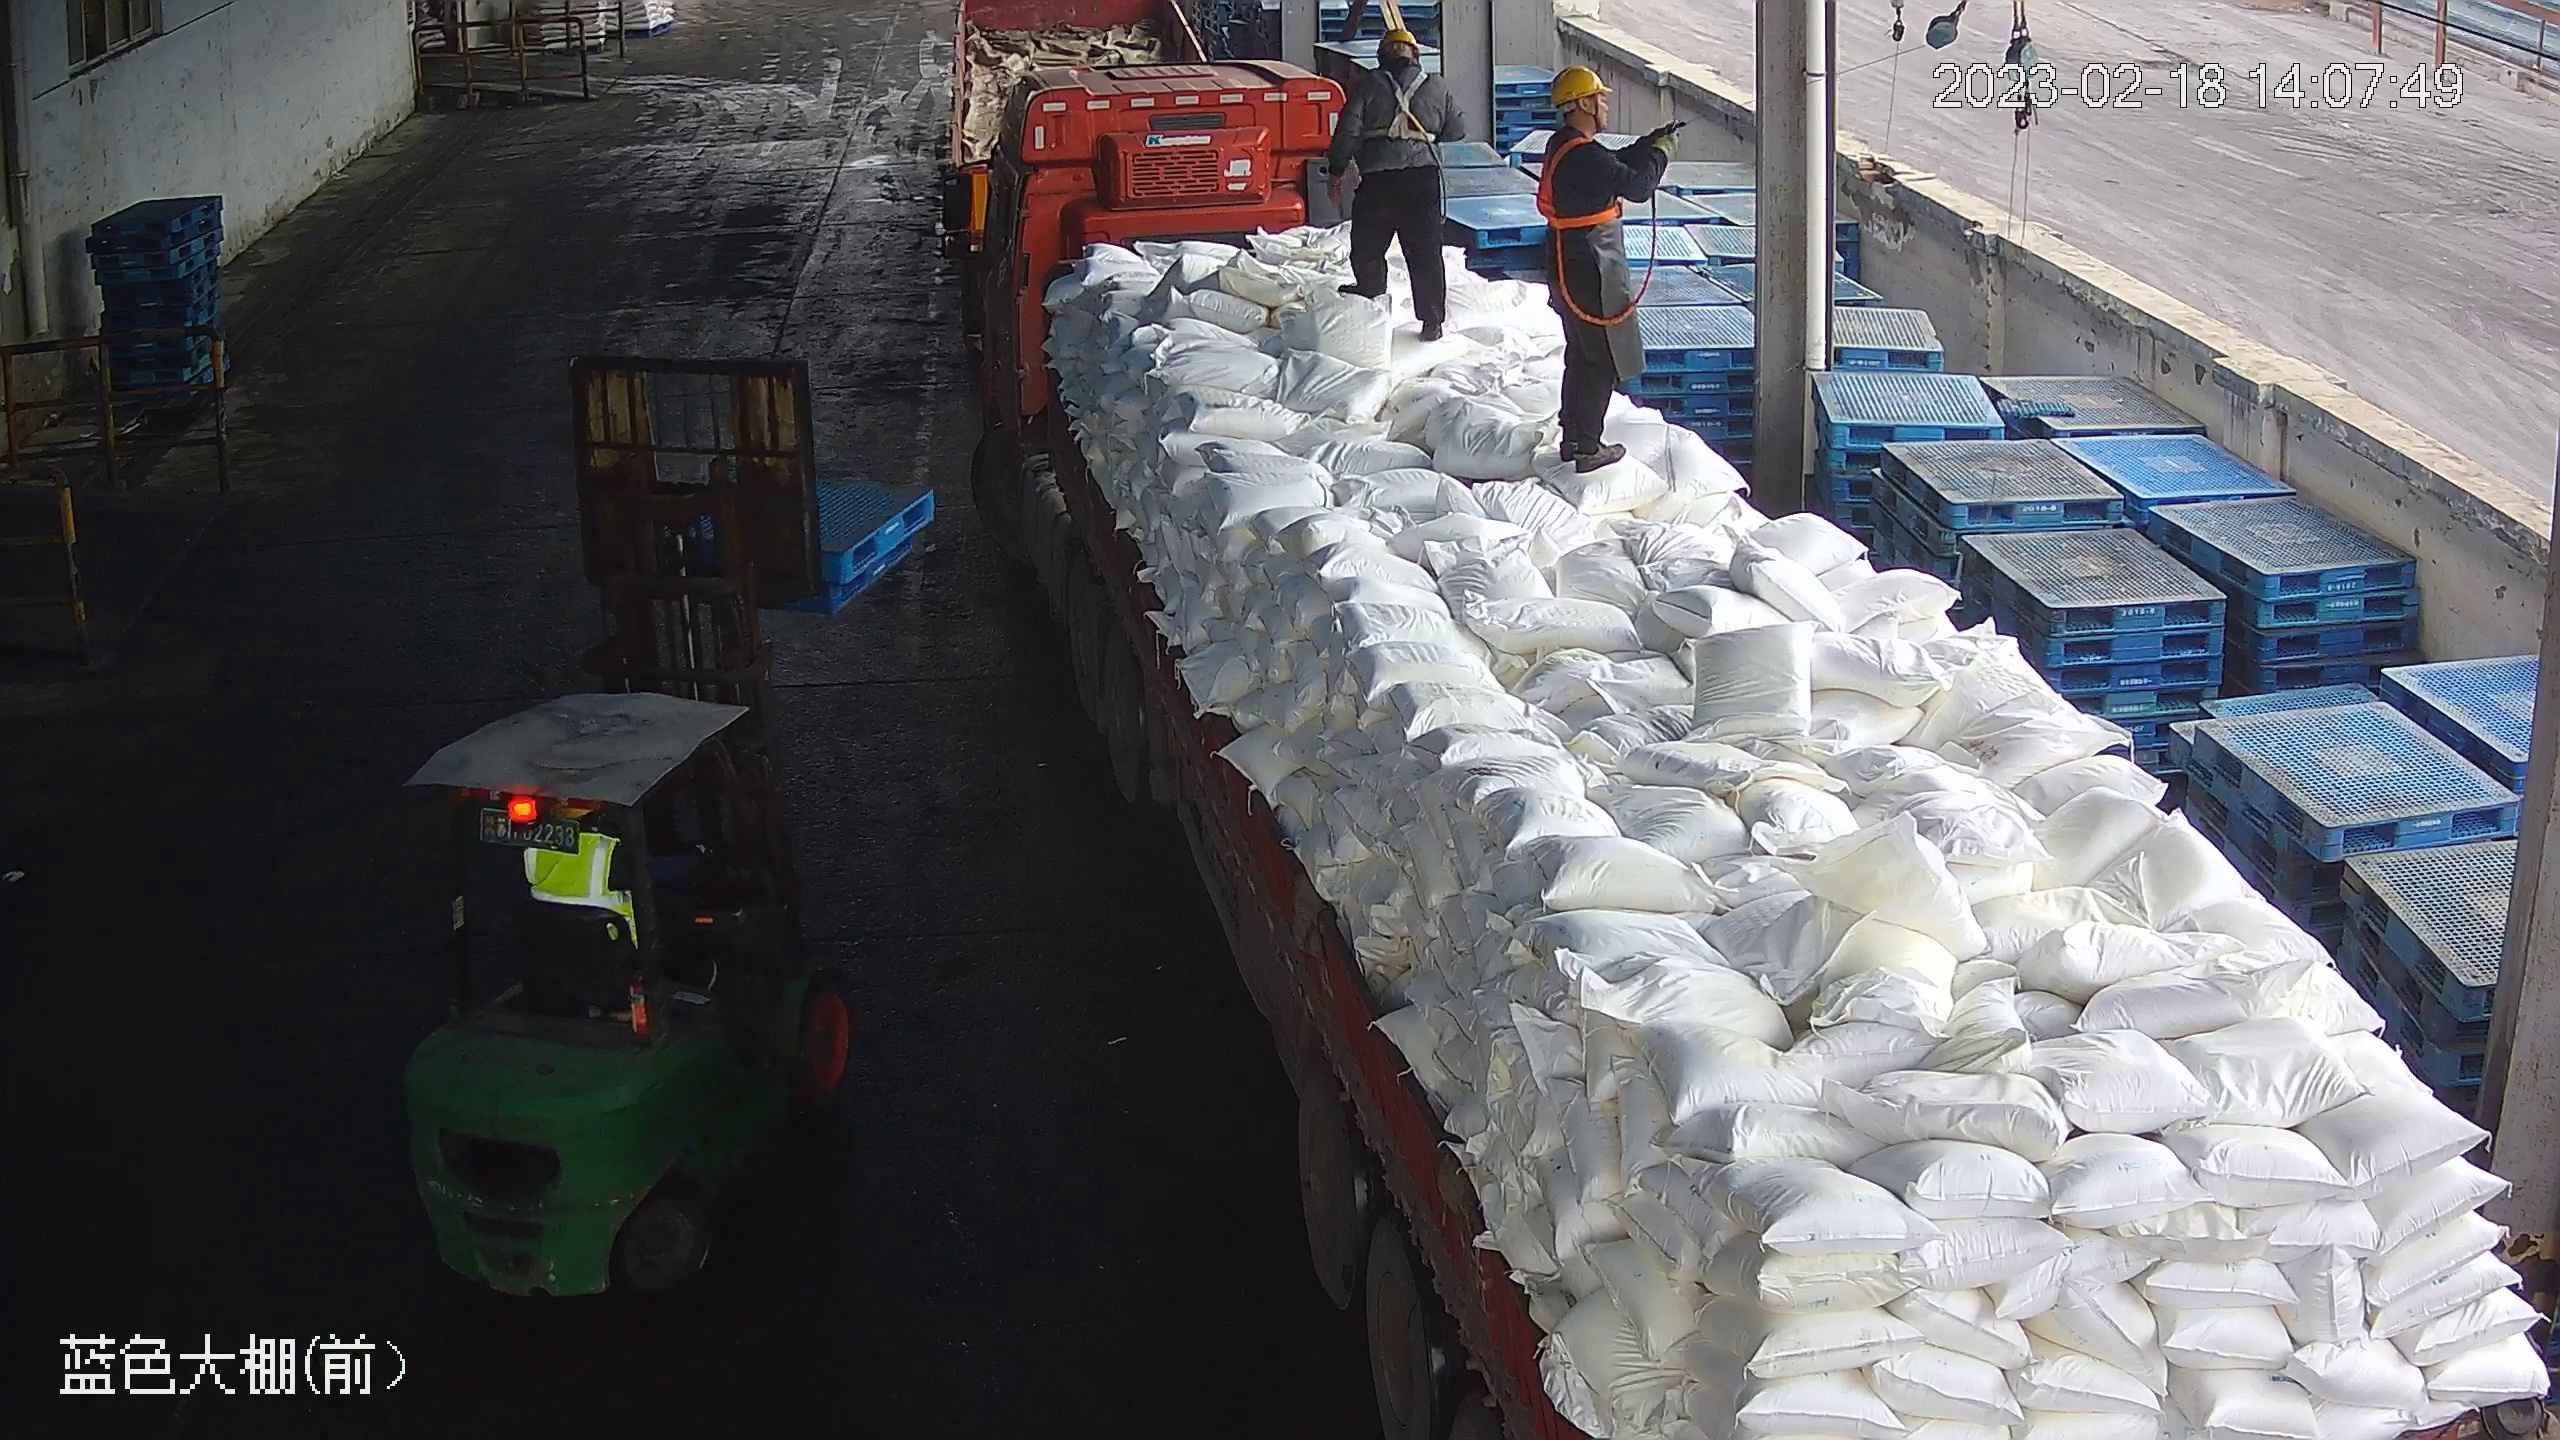belt: (1536, 131, 1625, 233), (1364, 71, 1447, 147)
head: (1538, 69, 1640, 192), (1351, 30, 1455, 114)
helmet: (1549, 67, 1614, 107), (1378, 30, 1420, 68)
people: (1536, 68, 1680, 478), (1321, 30, 1470, 342)
truck: (945, 56, 2560, 1440)
